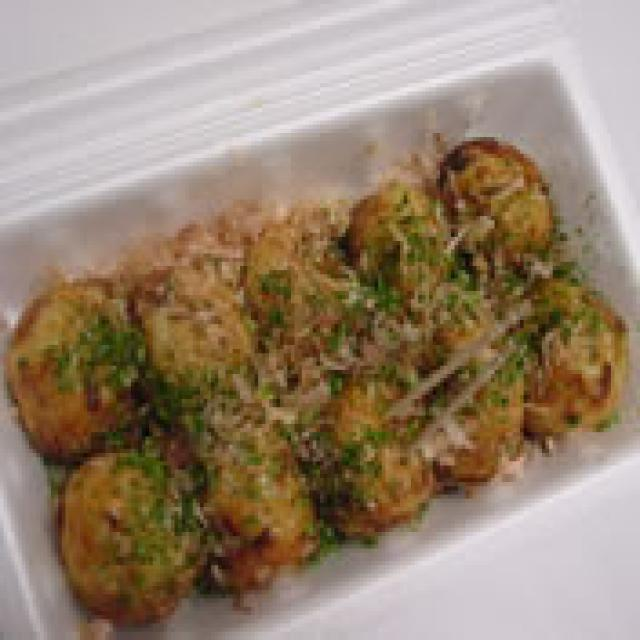炸货点心: (0, 46, 640, 623)
